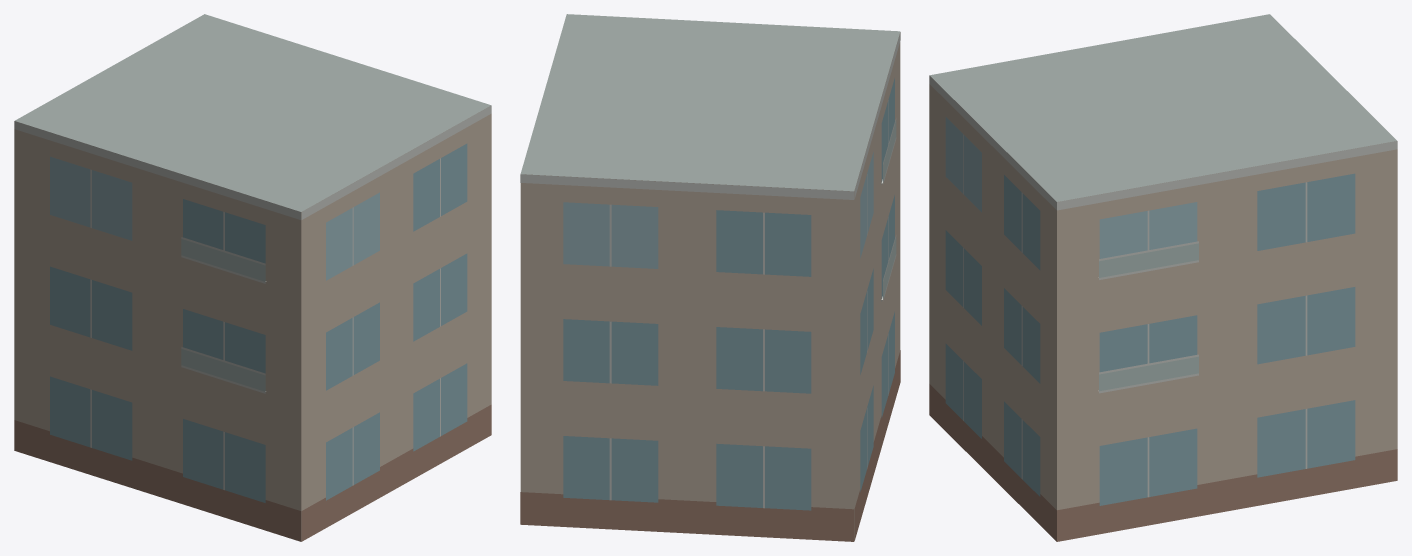
Rendered from survey-upis-32685167.glb.
3 renders of one model, left to right at view 1: azimuth 30°, elevation 25°; view 2: azimuth 150°, elevation 25°; view 3: azimuth 270°, elevation 25°, orthographic. The views are drawn at different scales.
Parts seen in each view (by area): view 1: survey-upis-32685167.tmp; view 2: survey-upis-32685167.tmp; view 3: survey-upis-32685167.tmp.
Boxes of the visible parts, x1=… form: survey-upis-32685167.tmp: x1=14, y1=14, x2=491, y2=541; survey-upis-32685167.tmp: x1=520, y1=14, x2=900, y2=541; survey-upis-32685167.tmp: x1=929, y1=14, x2=1397, y2=541.
Size of the model in its own units: 11.64 by 9.8 by 12.24.
